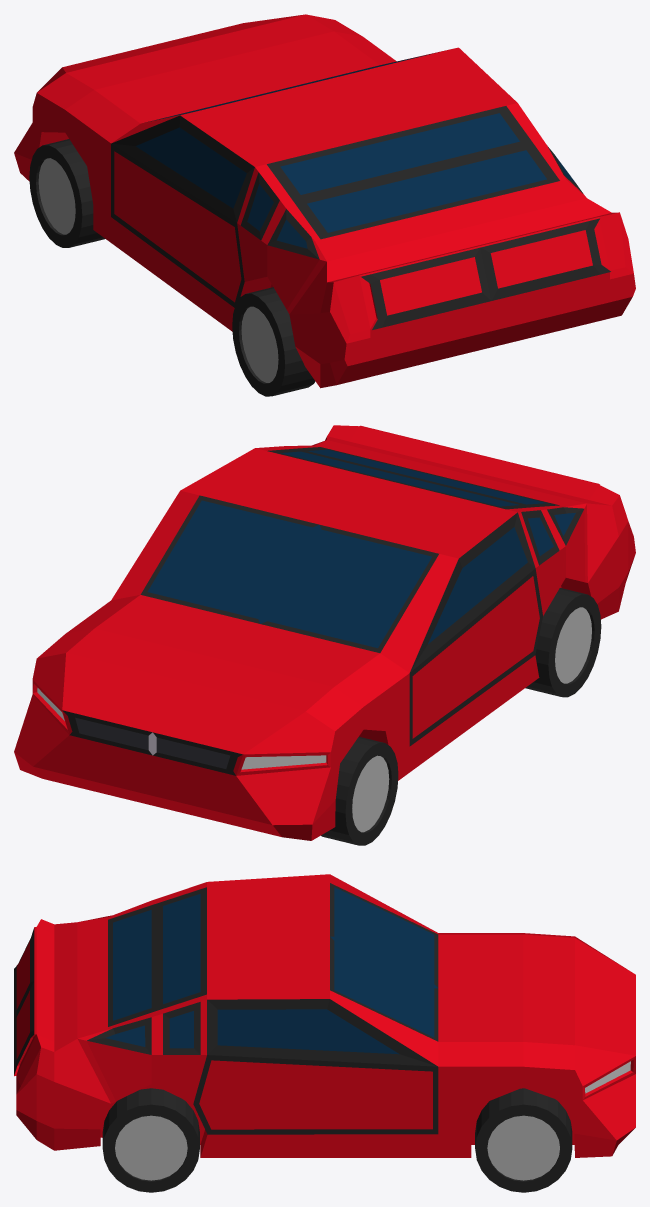
Rendered from LowPolyMustang_JAM23.fbx.
3 renders of one model, top to bottom at view 1: azimuth 30°, elevation 25°; view 2: azimuth 150°, elevation 25°; view 3: azimuth 270°, elevation 25°, orthographic. The views are drawn at different scales.
Visible parts, largest first — view 1: Cube; view 2: Cube; view 3: Cube.
Boxes of the visible parts, x1,y1,x2,y2 form: Cube: [14, 14, 635, 396]; Cube: [14, 425, 635, 845]; Cube: [14, 874, 635, 1192].
Size of the model in its own units: 2.38 by 1.45 by 4.42.
